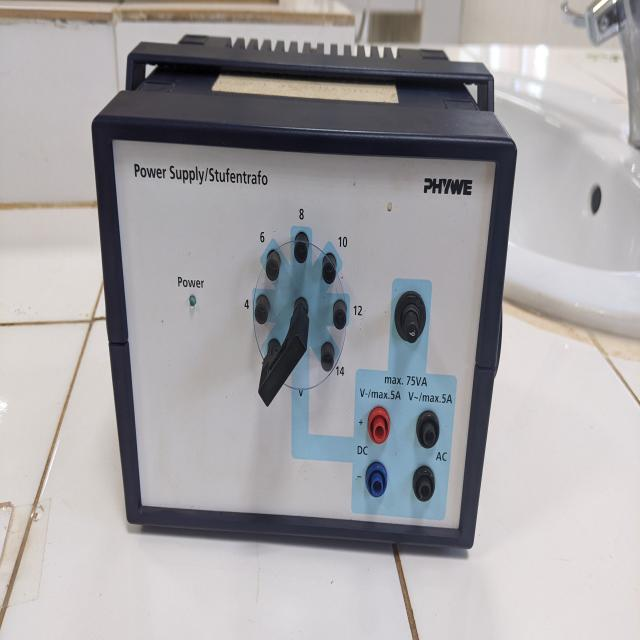Power Supply Stufentrafo_75VA: (85, 57, 525, 560)
